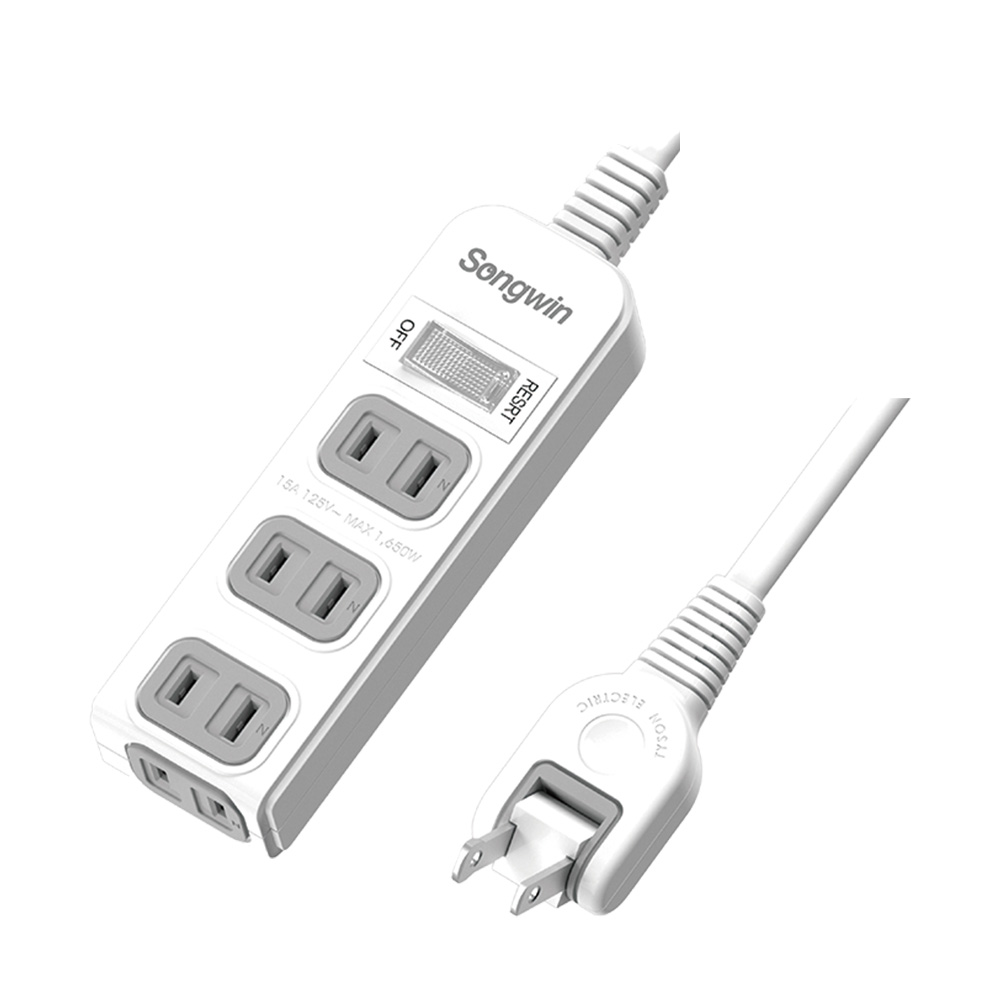socket: (89, 131, 681, 863)
